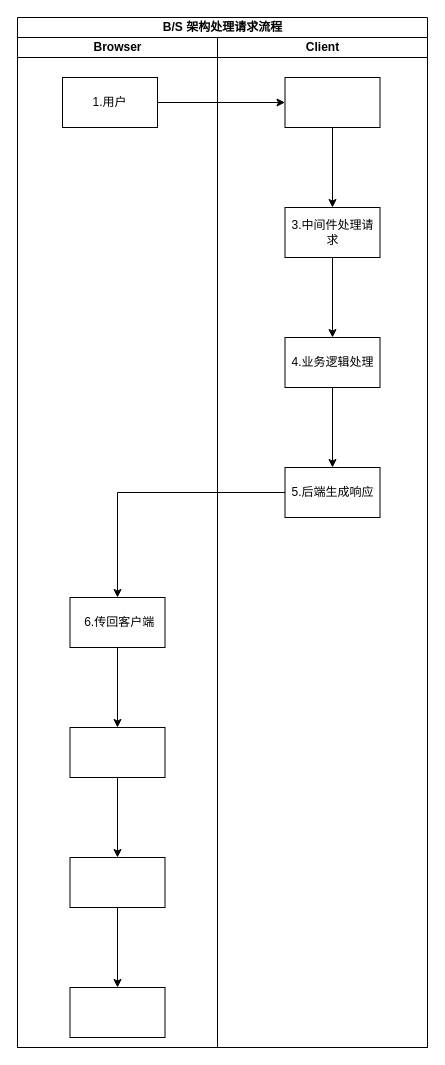
Image size: 445x1065. Some labels were removed from this diagram. The centre of each missing label's shape, as x and y in pixels:
"2.web 服务器\应用服务器（接收请求）" belongs at point 332,102.
"7.浏览器接收响应" belongs at point 117,752.
"8.页面渲染展示响应" belongs at point 117,882.
"9.关闭连接" belongs at point 117,1012.
